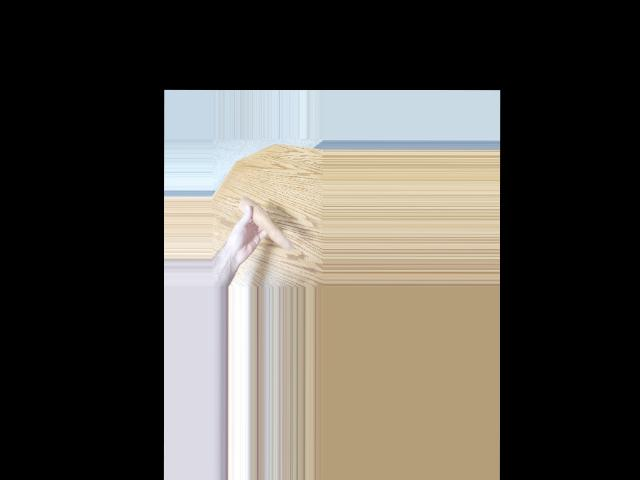sweet_potato: (238, 198, 292, 249)
